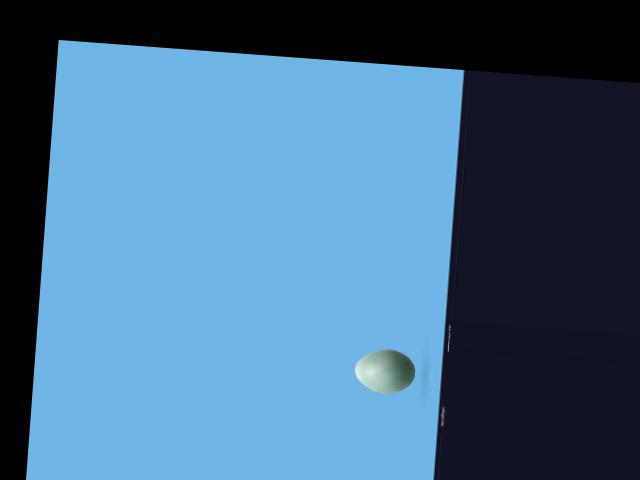egg: (353, 346, 416, 395)
